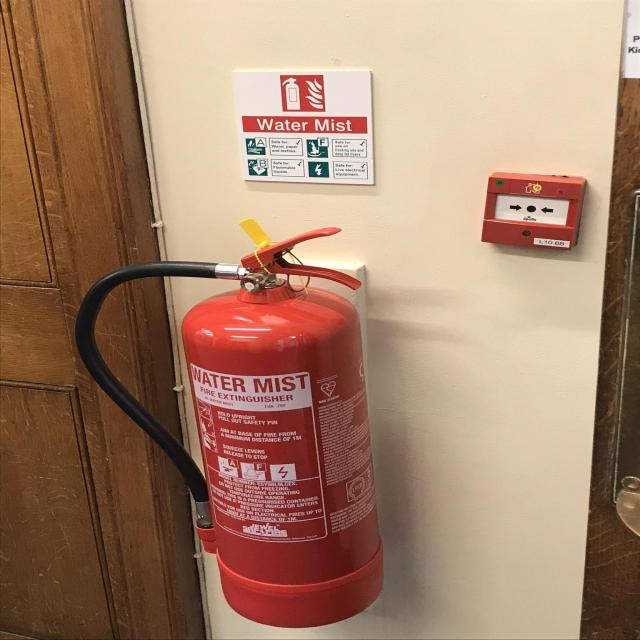fire_extinguisher: (73, 223, 390, 632)
